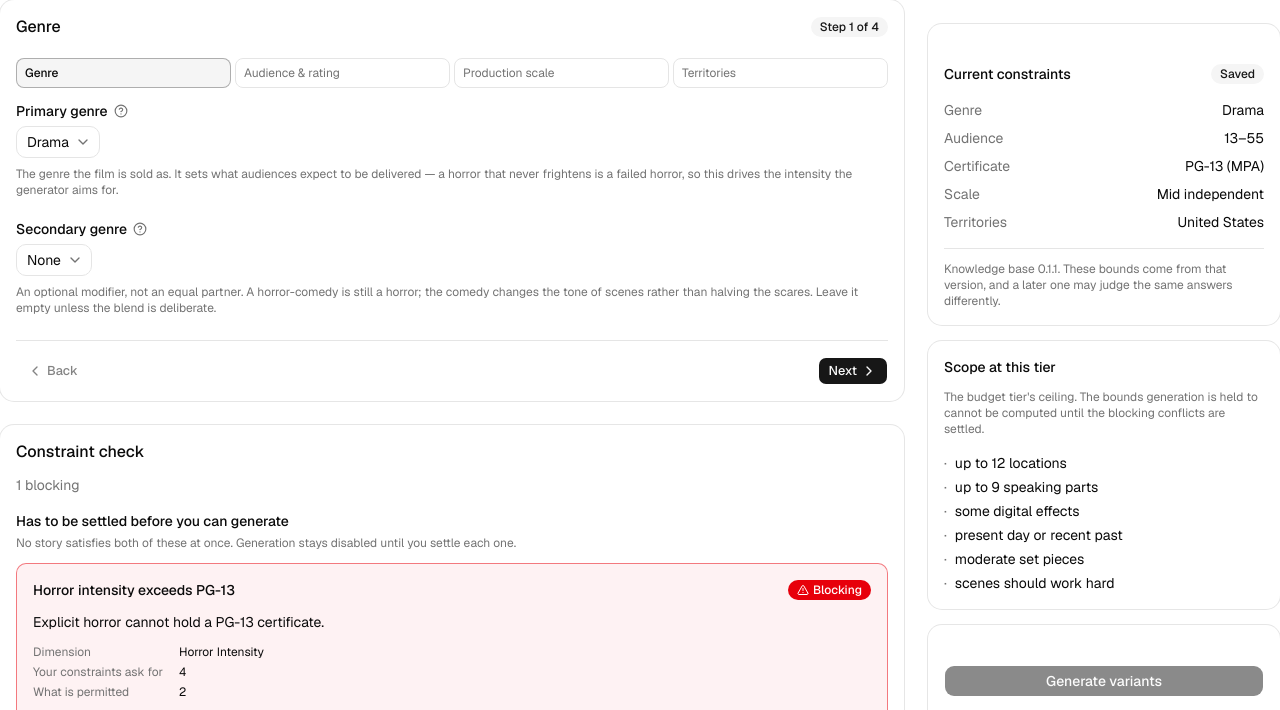
it: ProjectWorkspace › marks the draft unsaved as soon as an answer changes
Expected: the icon "Saved" is shown, [1211, 64, 1264, 84]
Click the button "Audience & rating".
click(342, 73)  # box [235, 58, 450, 88]
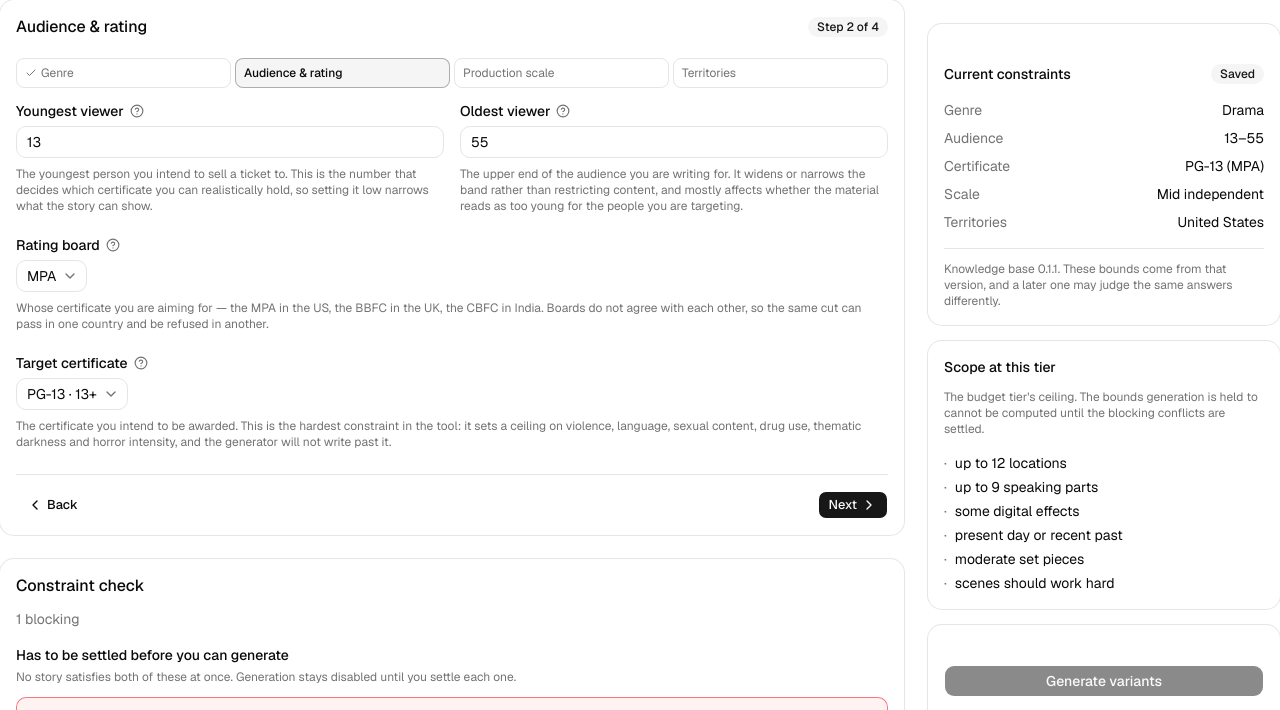
Replace the text in the number field labelled "Youngest viewer" with "16" at (230, 142), box [16, 126, 444, 158]
Wait 360 ms
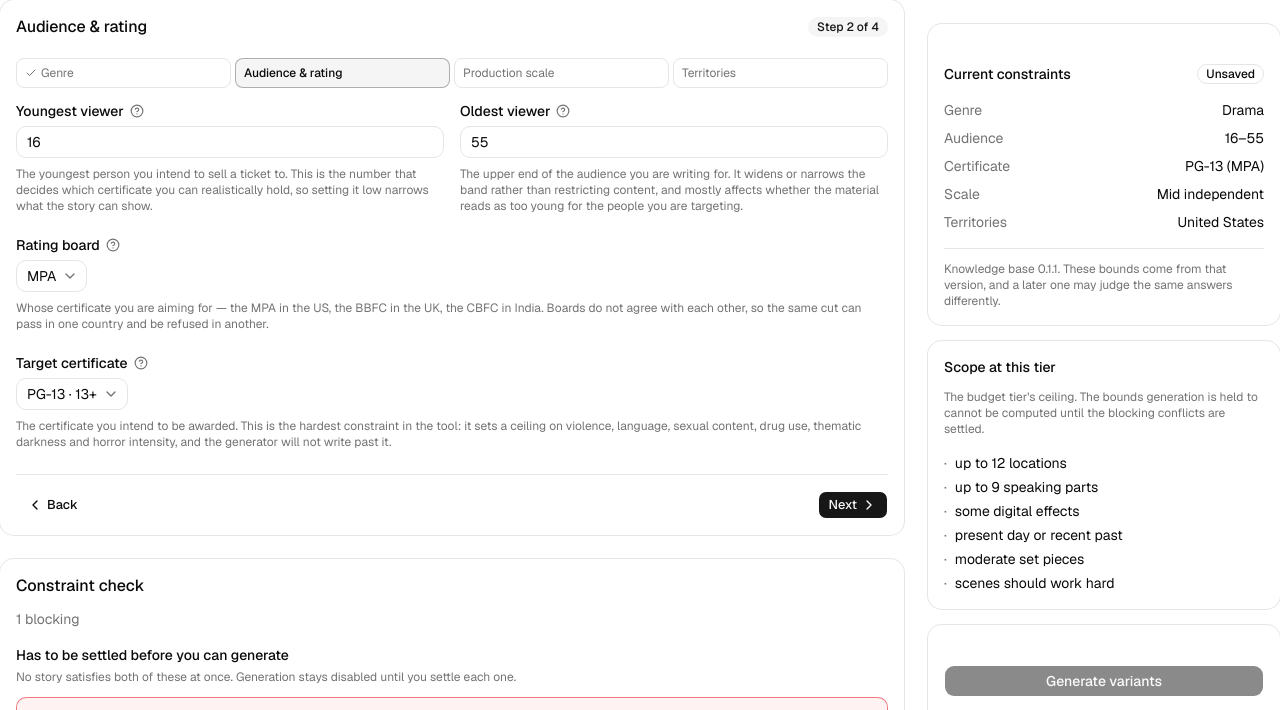
Now the text "Unsaved" is shown, box [1197, 64, 1264, 84]
